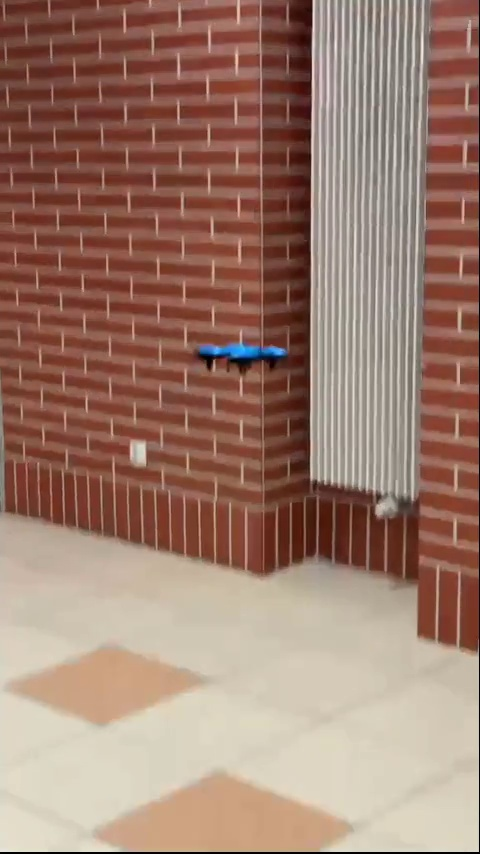drone: (194, 336, 286, 374)
